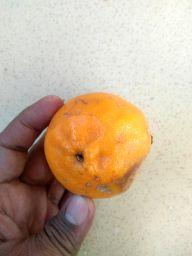Unripe: (47, 94, 149, 200)
